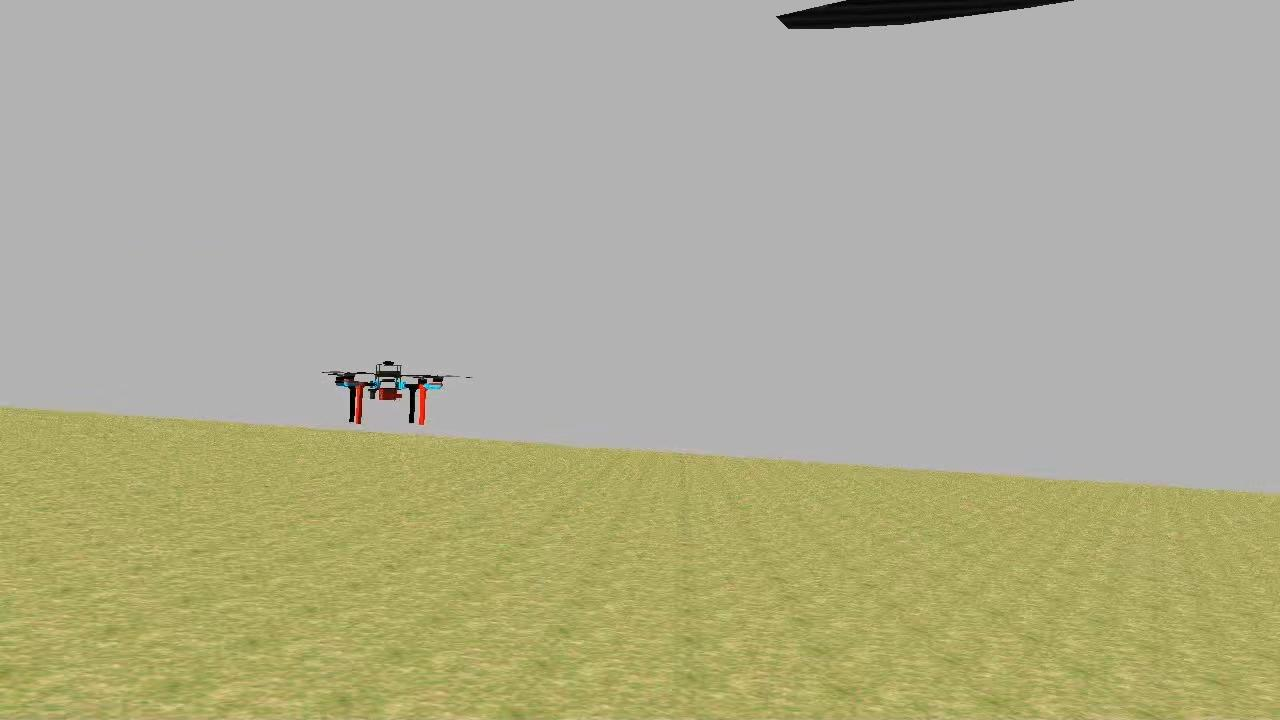UAV: (327, 354, 450, 435)
